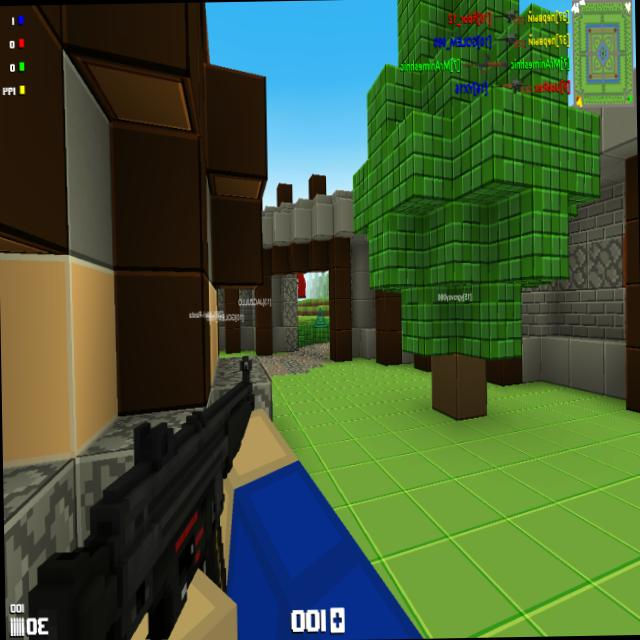enemy: (296, 273, 306, 298)
